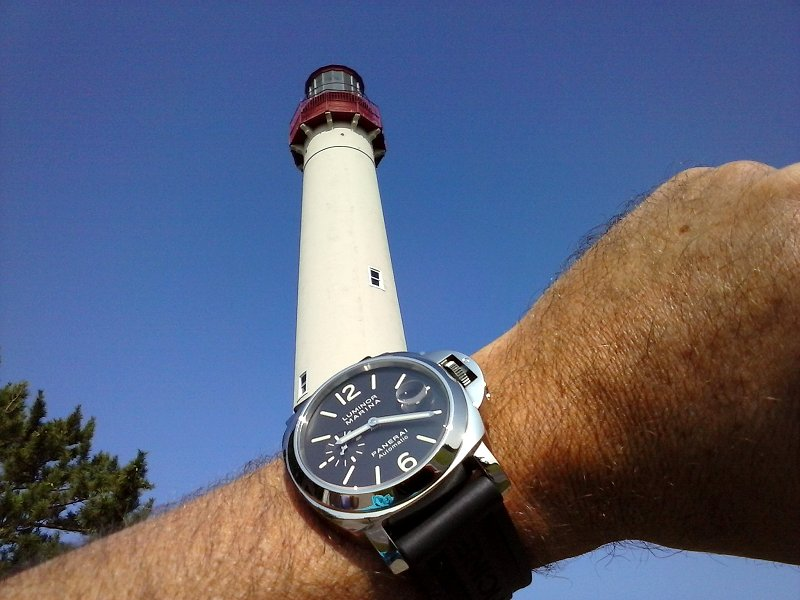clock: (293, 356, 453, 492)
